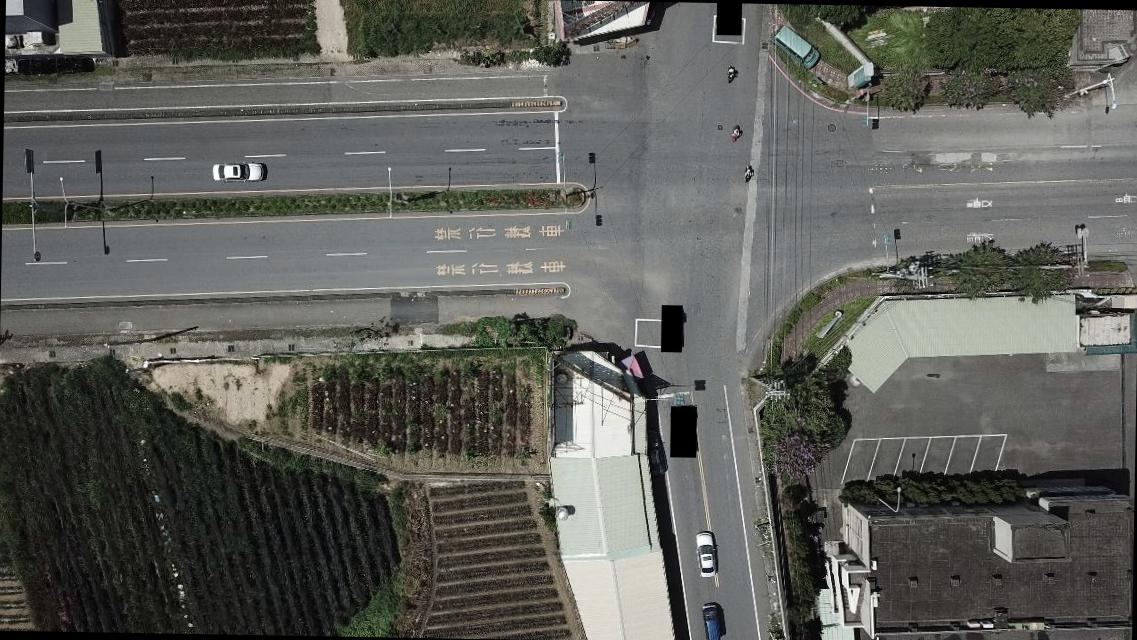vehicle: (772, 22, 823, 72), (208, 158, 266, 182), (692, 530, 720, 578), (698, 603, 729, 639)
